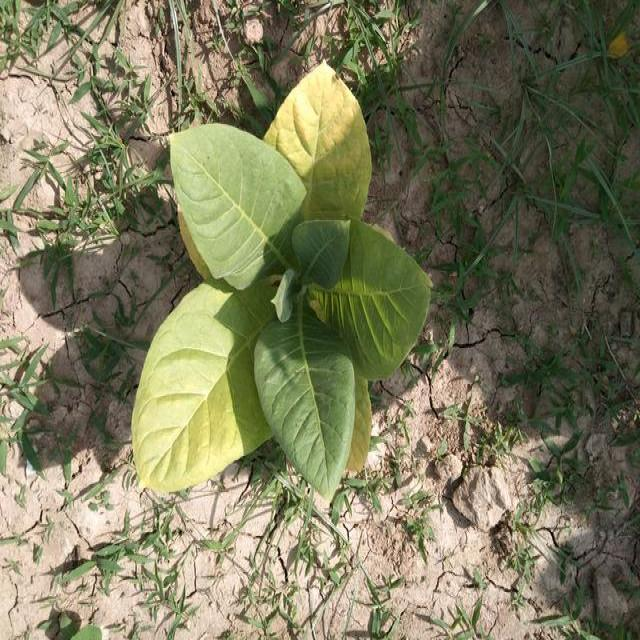crop: (135, 62, 435, 514)
